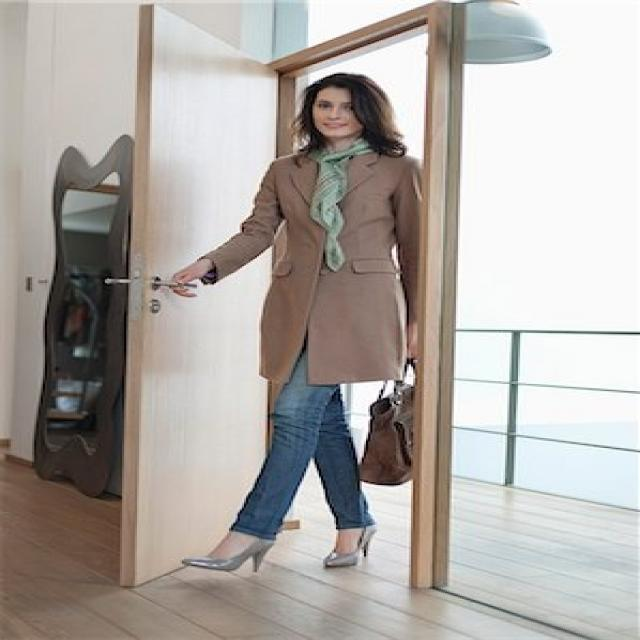walking: (129, 60, 420, 572)
